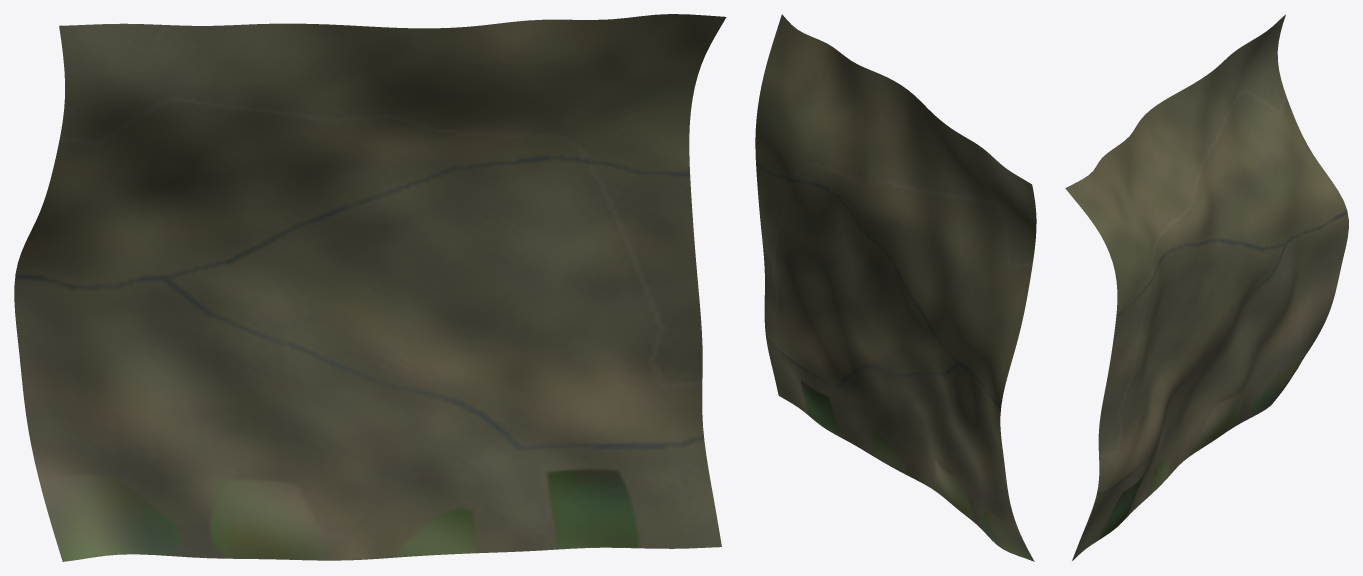
File: ground_mid_07_00.obj
3 renders of one model, left to right at view 1: azimuth 30°, elevation 25°; view 2: azimuth 150°, elevation 25°; view 3: azimuth 270°, elevation 25°, orthographic. The views are drawn at different scales.
Parts seen in each view (by area): view 1: ground_mid_07_00; view 2: ground_mid_07_00; view 3: ground_mid_07_00.
Boxes of the visible parts, x1,y1,x2,y2 form: ground_mid_07_00: (14,14,726,561); ground_mid_07_00: (755,14,1036,561); ground_mid_07_00: (1065,14,1348,560).
Size of the model in its own units: 200 by 200 by 138.
Materials: 1 (1 with a texture image).
